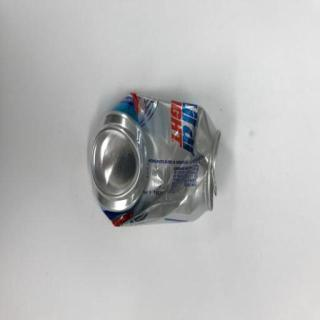Anorganik: (89, 82, 227, 235)
